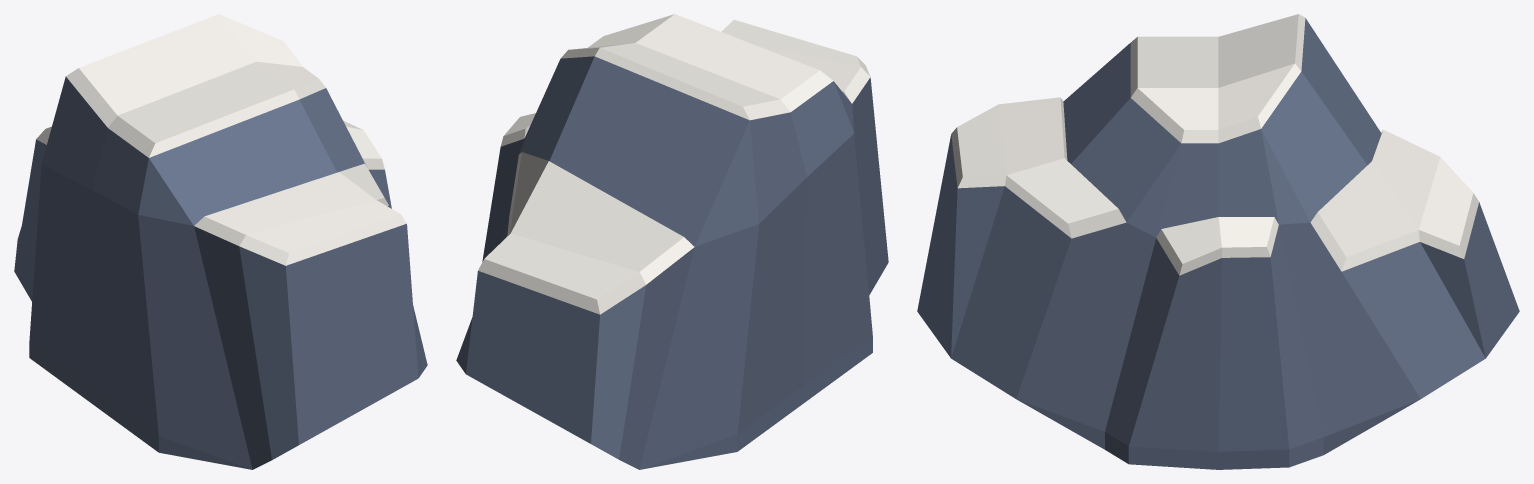
Rendered from Rock_Snow_4.glb.
3 renders of one model, left to right at view 1: azimuth 30°, elevation 25°; view 2: azimuth 150°, elevation 25°; view 3: azimuth 270°, elevation 25°, orthographic. The views are drawn at different scales.
Visible parts, largest first — view 1: Rock_Snow_4; view 2: Rock_Snow_4; view 3: Rock_Snow_4.
Boxes of the visible parts, x1,y1,x2,y2 form: Rock_Snow_4: [14, 14, 427, 469]; Rock_Snow_4: [456, 14, 888, 469]; Rock_Snow_4: [917, 14, 1519, 469].
Size of the model in its own units: 0.7436 by 0.7995 by 1.25.
